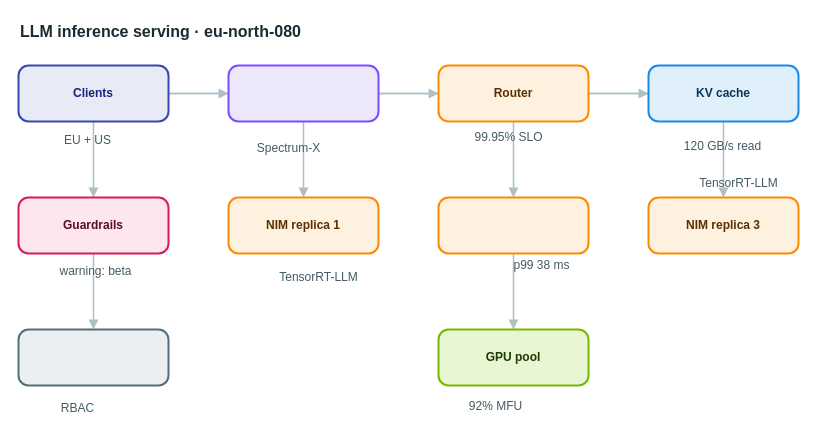
Some shapes in this 816 by 435 pixel diagram are drawn without their labels. Each missing label, with the centre of its shape:
API gateway: the point at 303,93
Metrics: the point at 93,357
NIM replica 2: the point at 513,225
